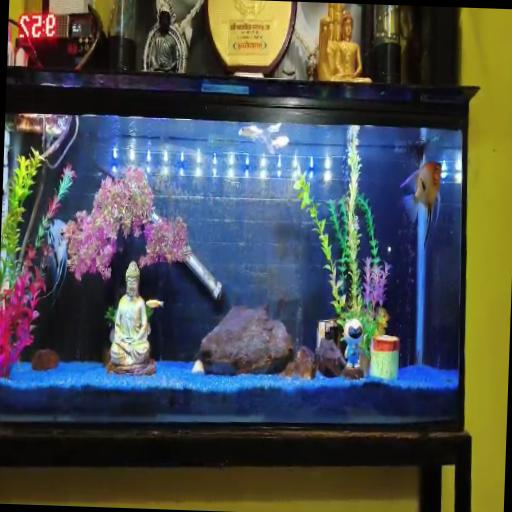Fish: (400, 162, 440, 244), (44, 218, 67, 305), (238, 124, 288, 155), (145, 300, 162, 308)
